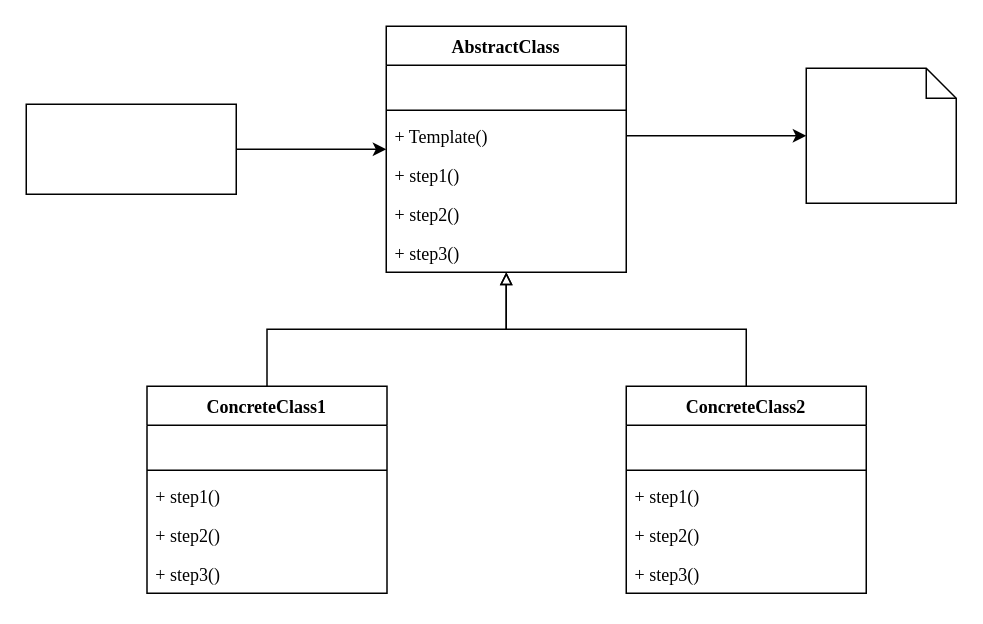
The diagram is 983 pixels wide and 624 high, and some of its shapes have lost their labels. Here are the shapes that lost their labels. From the top down, the centre of each, then its label:
At point 130,148: "Client".
At point 880,135: "Template(){ step1(); step2(); step3(); }".
